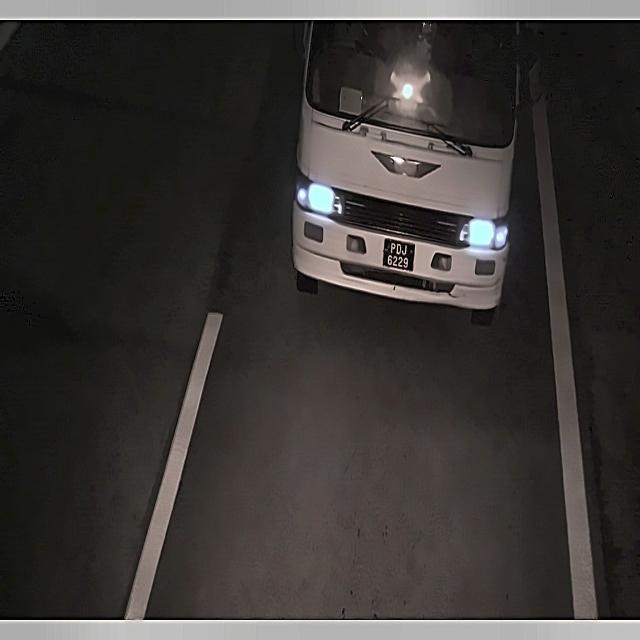car: (383, 238, 414, 276)
